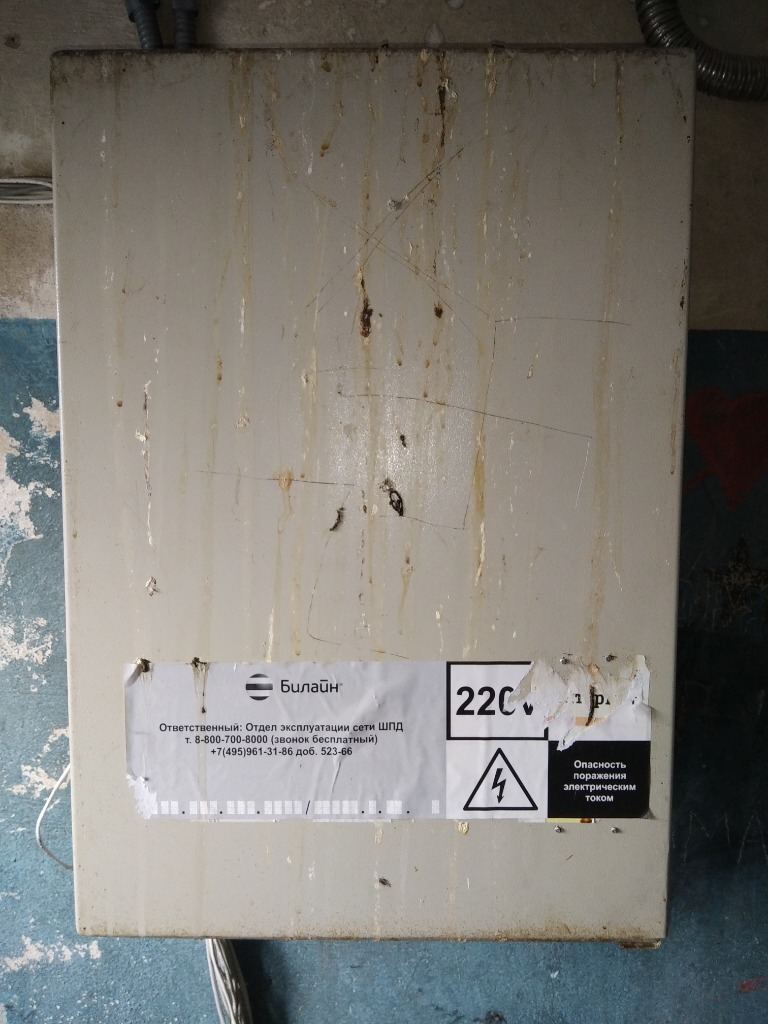sv-5: (39, 35, 706, 953)
